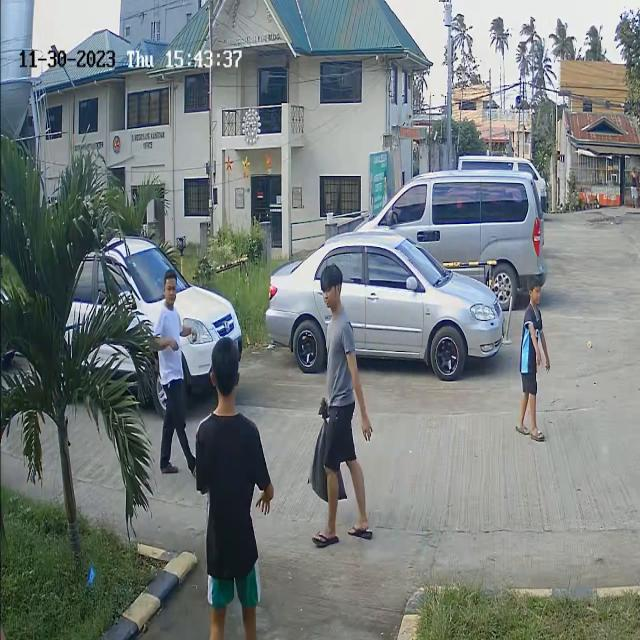person: (203, 335, 250, 483), (314, 268, 358, 415), (522, 277, 554, 397), (156, 265, 183, 349)
